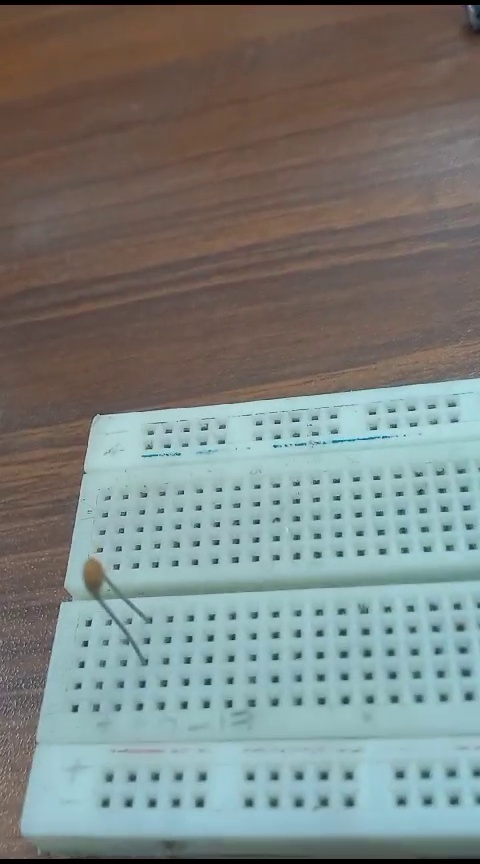ceramic capacitor: (76, 560, 154, 660)
